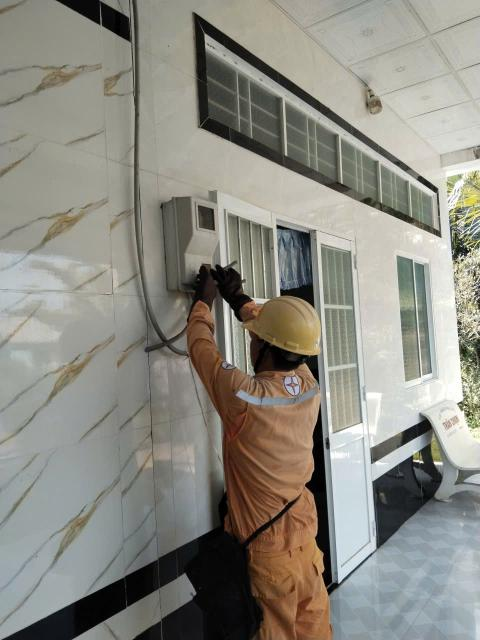gloves: (217, 252, 249, 335), (178, 262, 217, 327)
helmet: (239, 285, 334, 373)
